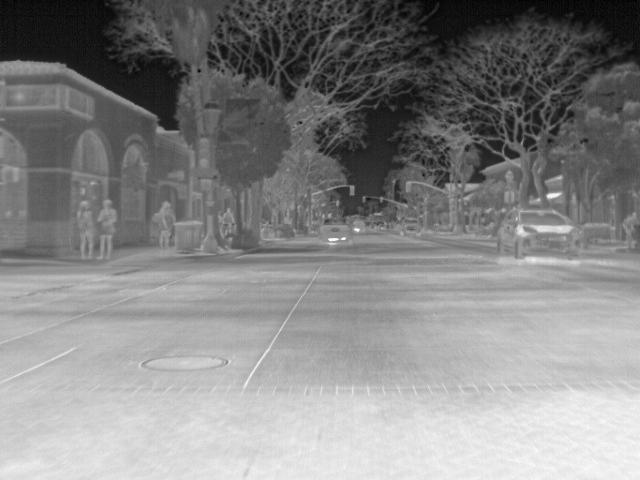car: (499, 210, 582, 261), (318, 214, 351, 244), (397, 216, 423, 236), (348, 218, 367, 236)
person: (95, 198, 119, 259), (77, 196, 100, 259), (154, 200, 175, 248), (222, 207, 238, 236)
